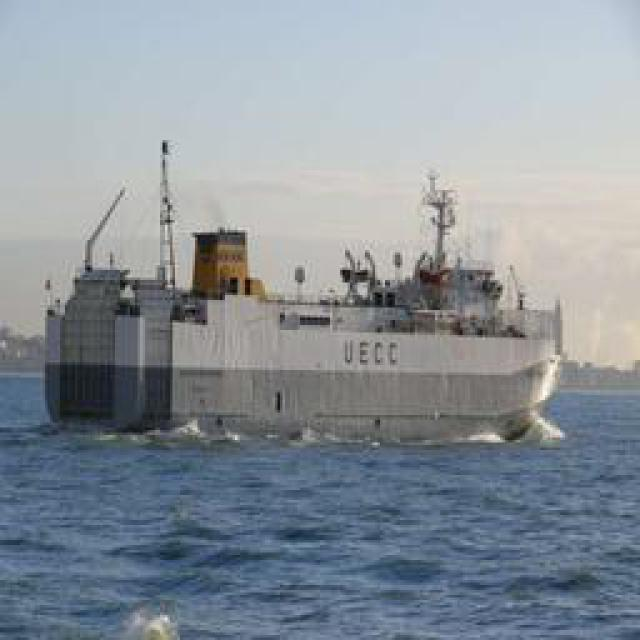Ship: (51, 134, 561, 444)
